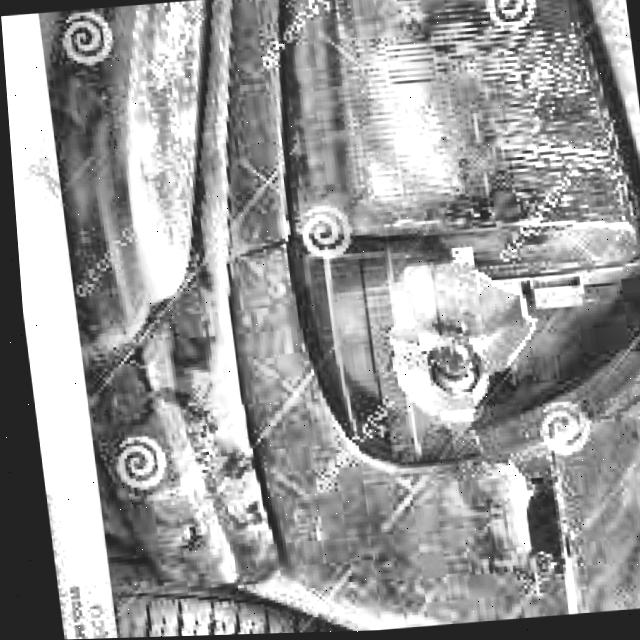head_lamp: (319, 222, 640, 432)
